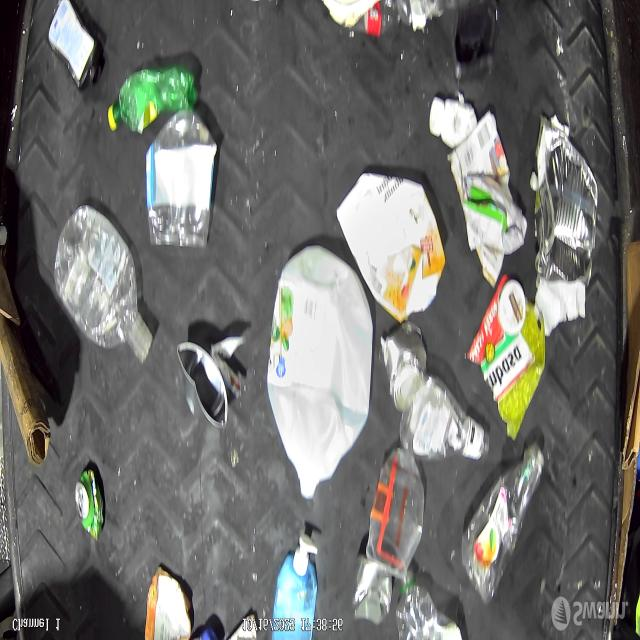can: (534, 115, 598, 288), (175, 341, 228, 432), (386, 325, 424, 407), (74, 470, 104, 540)
milk_jug: (265, 255, 372, 510)
plastic_bottle: (54, 204, 154, 365), (461, 452, 548, 602), (403, 389, 488, 458)
